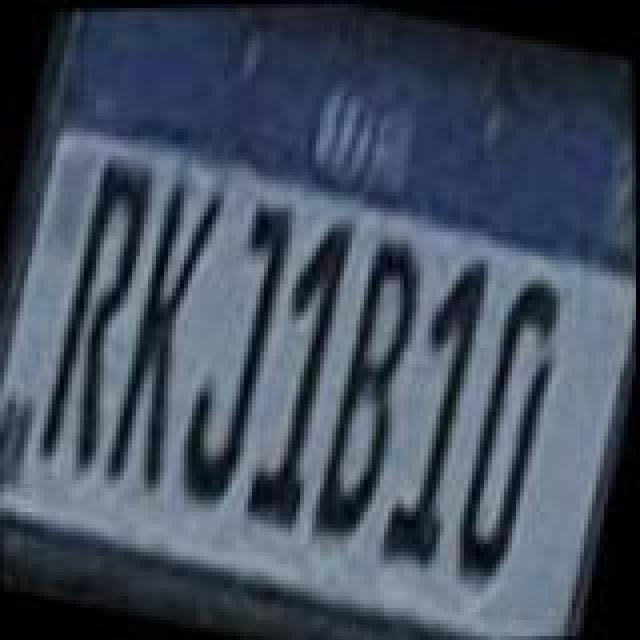1: (368, 248, 512, 572), (232, 206, 372, 534)
B: (292, 228, 440, 548)
D: (438, 268, 586, 592)
J: (160, 188, 308, 516)
K: (90, 172, 238, 496)
R: (22, 148, 170, 476)
